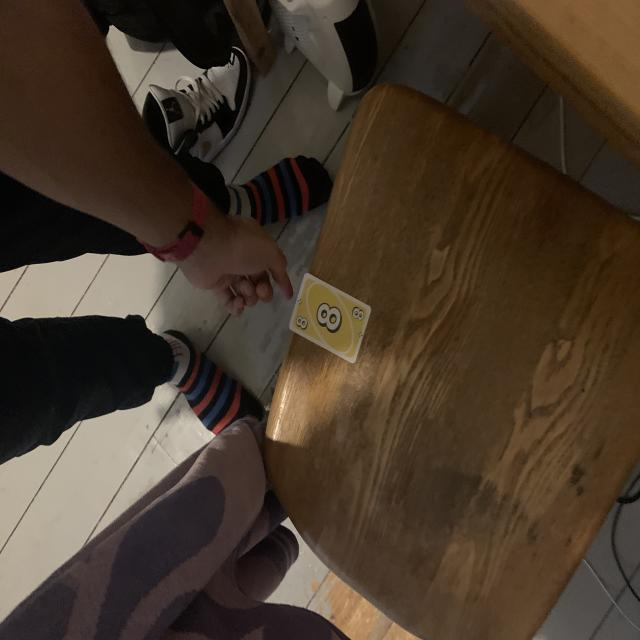lyellow-8: (294, 314, 310, 332)
